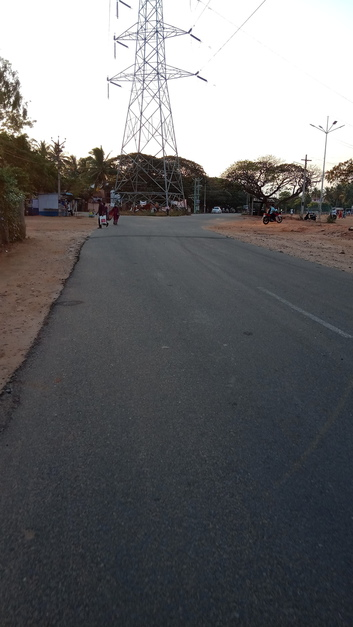bump: (85, 232, 233, 243)
